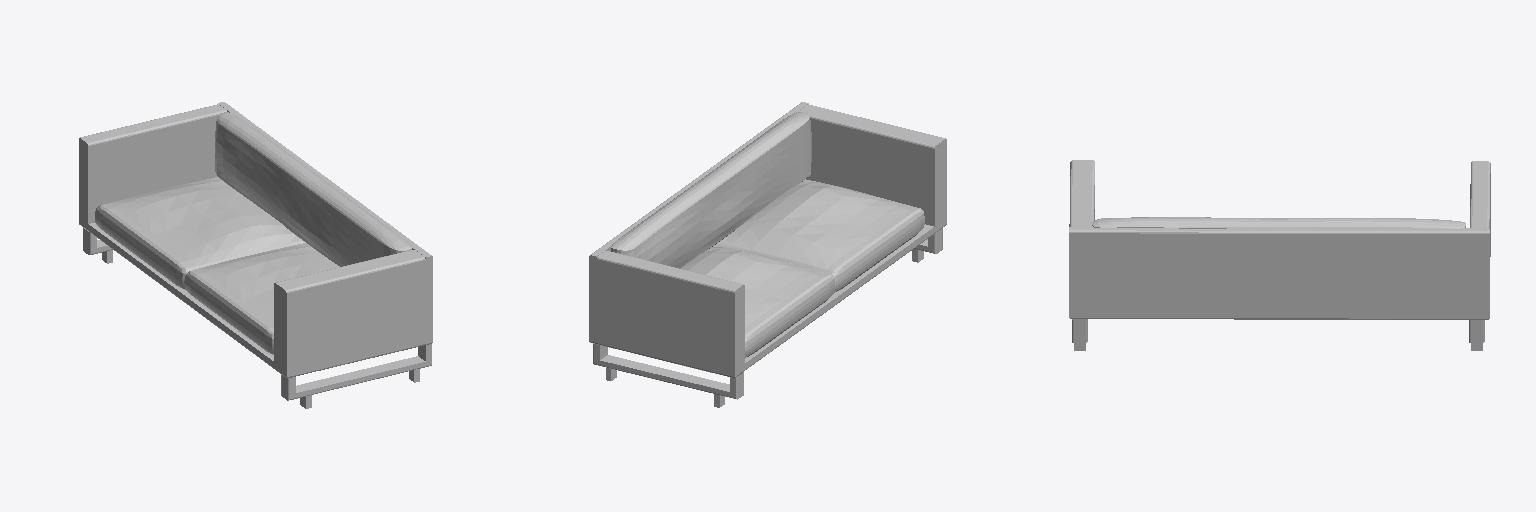
File: Couch.obj
3 renders of one model, left to right at view 1: azimuth 30°, elevation 25°; view 2: azimuth 150°, elevation 25°; view 3: azimuth 270°, elevation 25°, orthographic.
Parts seen in each view (by area): view 1: Legs2; view 2: Legs2; view 3: Legs2.
Boxes of the visible parts, x1,y1,x2,y2 form: Legs2: [79, 102, 432, 408]; Legs2: [589, 102, 946, 407]; Legs2: [1069, 160, 1490, 350].
Size of the model in its own units: 15.36 by 12.83 by 37.71.